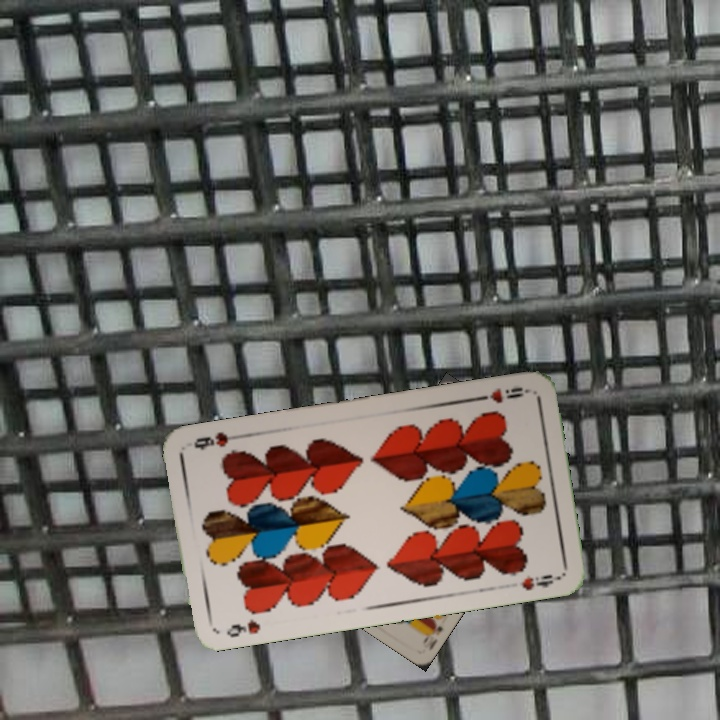E10: (418, 616, 445, 654)
H9: (472, 383, 531, 406), (222, 615, 263, 640)
